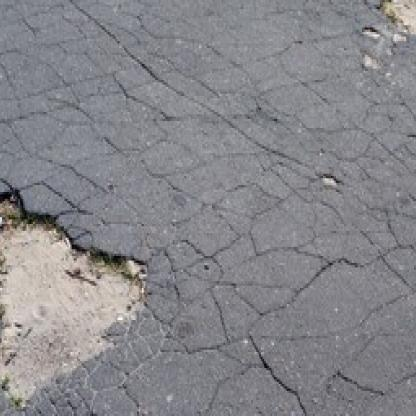pothole: (0, 185, 150, 407), (375, 0, 416, 57)
